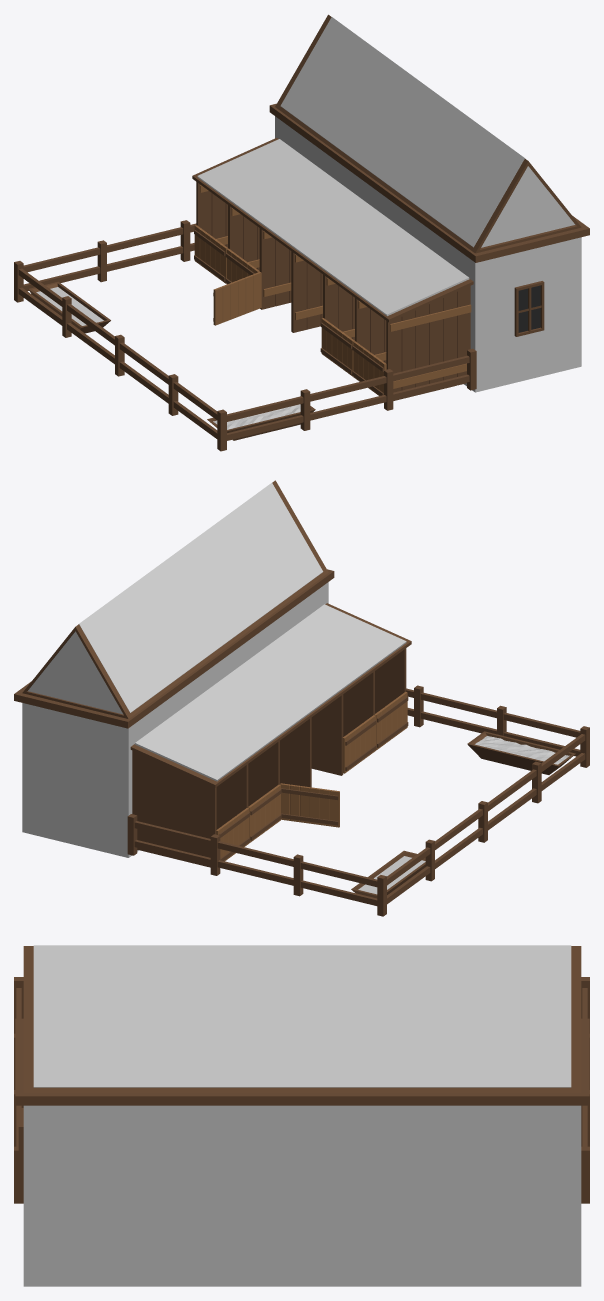
Rendered from Stable_snow_mat.fbx.
3 renders of one model, top to bottom at view 1: azimuth 30°, elevation 25°; view 2: azimuth 150°, elevation 25°; view 3: azimuth 270°, elevation 25°, orthographic. The views are drawn at different scales.
Visible parts, largest first — view 1: Stable_snow_mat; view 2: Stable_snow_mat; view 3: Stable_snow_mat.
Boxes of the visible parts, <box> form: Stable_snow_mat: <box>14,14,589,451</box>; Stable_snow_mat: <box>14,480,589,916</box>; Stable_snow_mat: <box>14,945,589,1286</box>.
Size of the model in its own units: 690 by 390 by 668.
